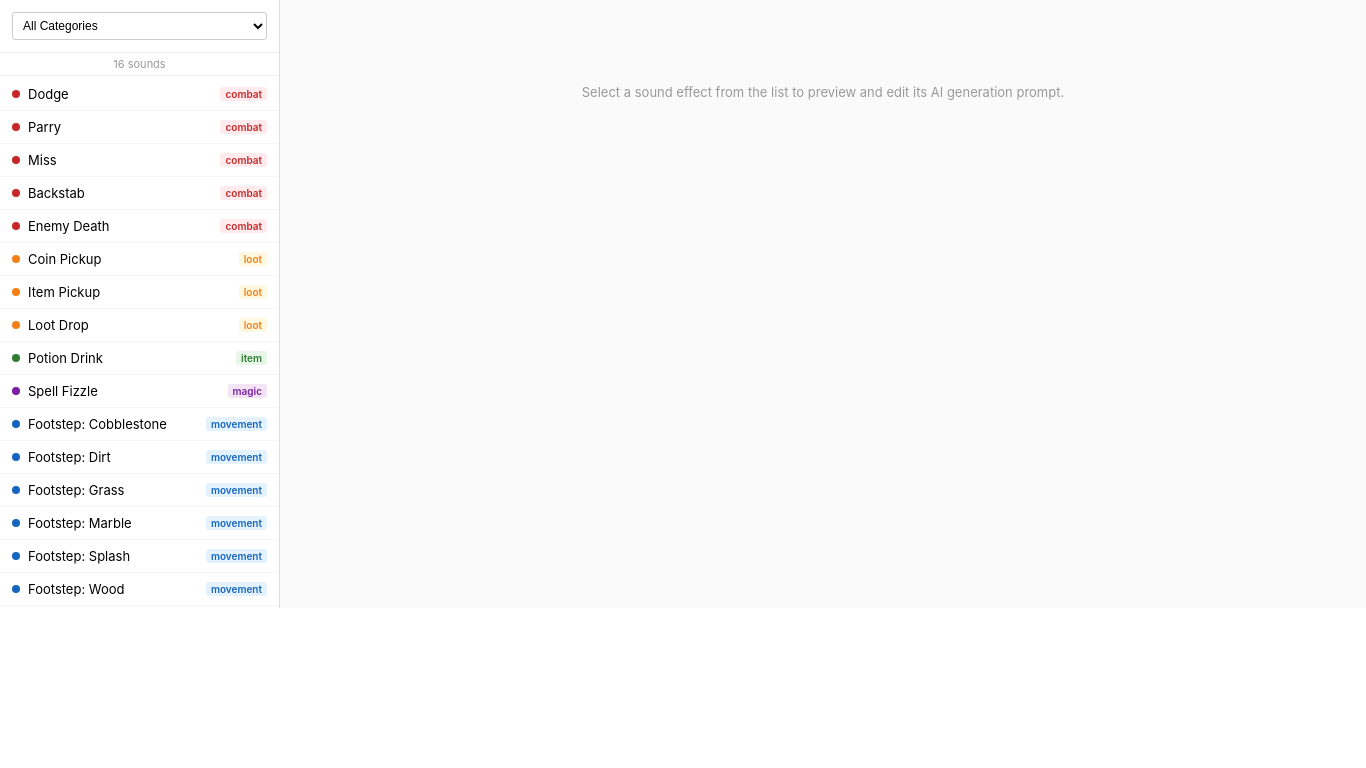
Test: DefaultSfxEditor › detail panel shows description and ID for selected entry
The image size is (1366, 768).
Expected: the text "16 sounds" is shown, x1=0 y1=53 x2=279 y2=76
Step 1. Click the text "Spell Fizzle" → (63, 391), box x1=28 y1=383 x2=98 y2=399
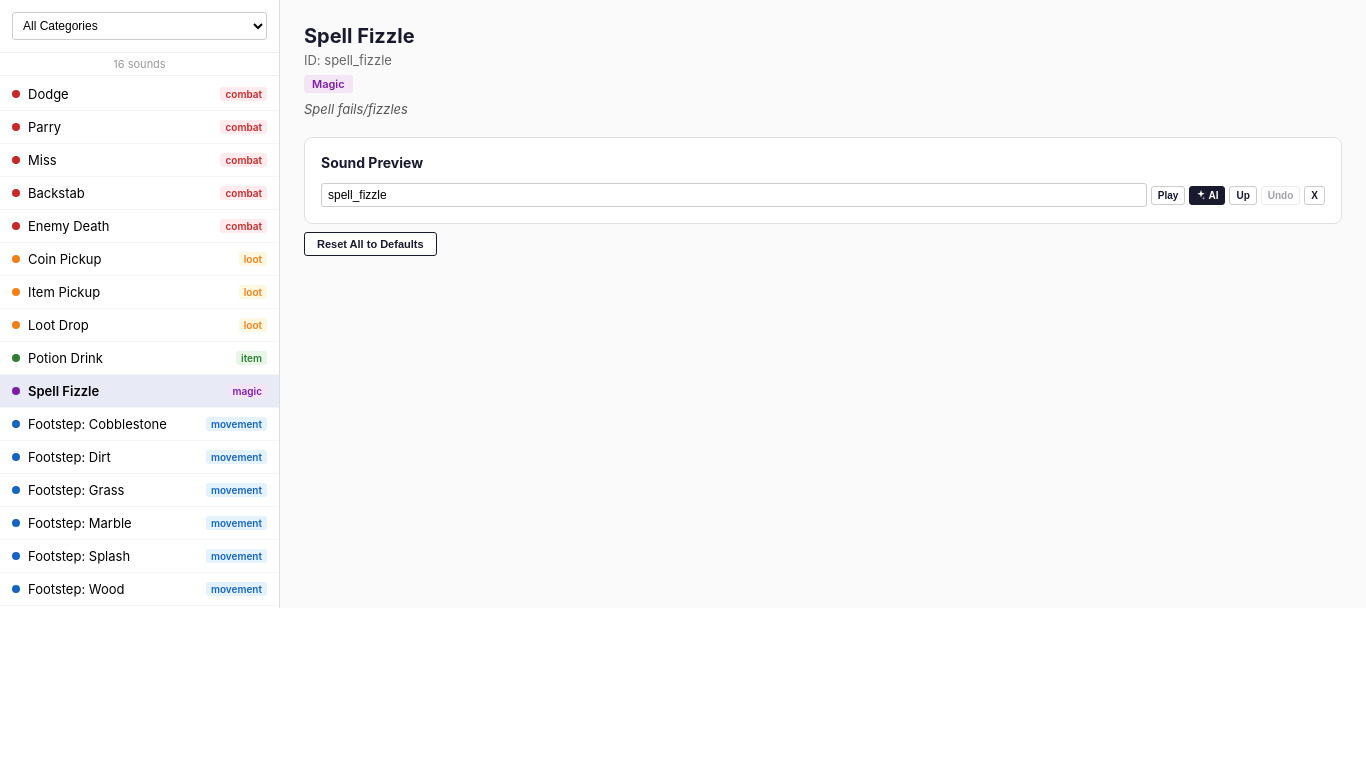
Expected: the text "ID: spell_fizzle" is shown, x1=304 y1=52 x2=392 y2=68
Expected: the text "Spell fails/fizzles" is shown, x1=304 y1=101 x2=408 y2=117
